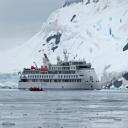cruises: (18, 48, 104, 92)
